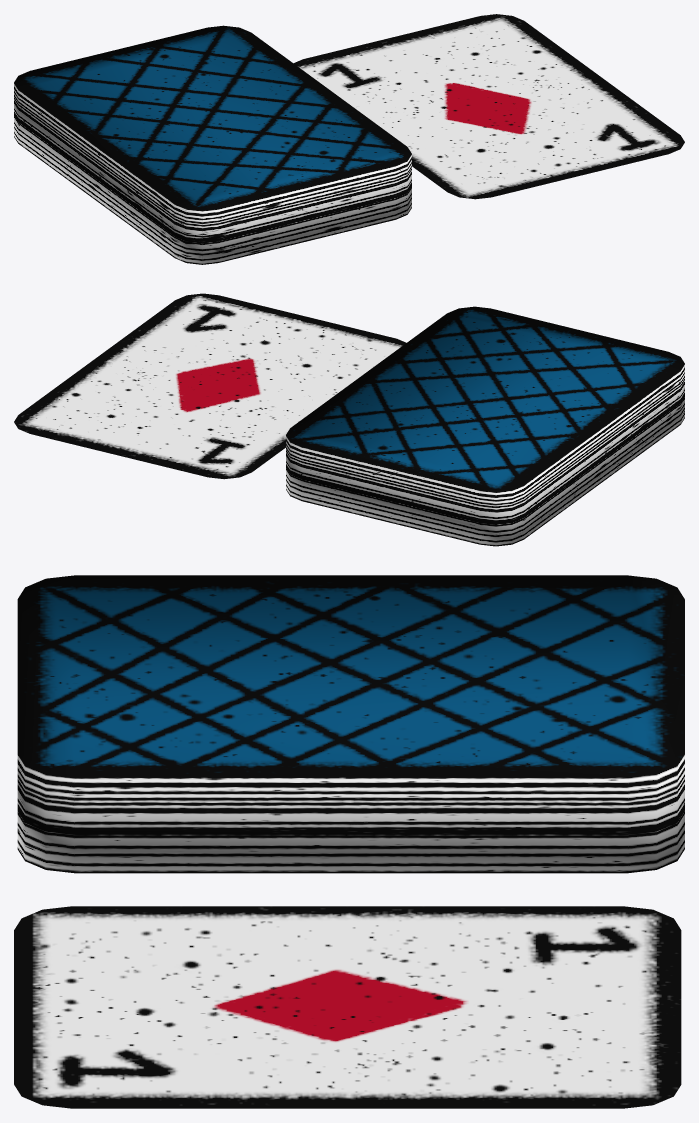
Rendered from cards.obj.
3 views of the same model, one above another, from view 1: azimuth 30°, elevation 25°; view 2: azimuth 150°, elevation 25°; view 3: azimuth 270°, elevation 25° (orthographic). The views are drawn at different scales.
Parts seen in each view (by area): view 1: Cube; view 2: Cube; view 3: Cube.
Boxes of the visible parts, x1,y1,x2,y2 form: Cube: [14, 14, 684, 264]; Cube: [14, 293, 684, 546]; Cube: [14, 575, 684, 1108].
Bounding box in the file's own units: 4.54 × 0.4666 × 2.95.
